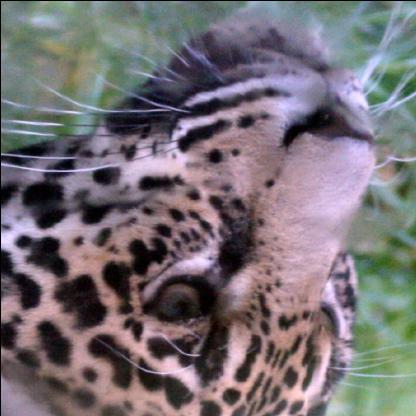leopard: (1, 16, 386, 415)
